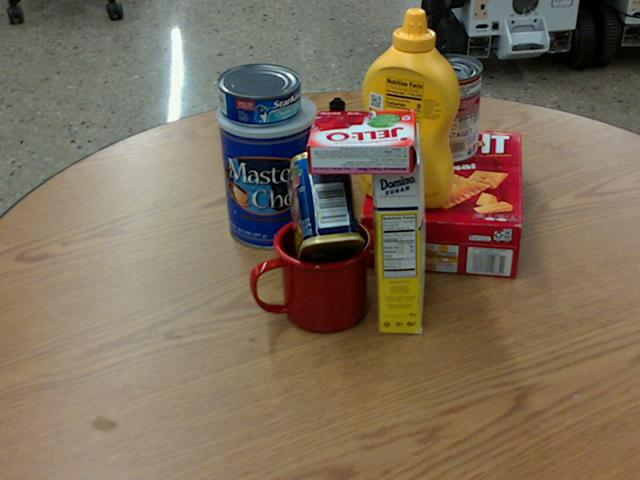cracker_box: (358, 125, 520, 277)
gelatin_box: (305, 108, 418, 174)
large_marker: (328, 99, 345, 198)
master_chef_can: (217, 88, 320, 247)
mug: (246, 214, 369, 333)
mustard_bottle: (359, 8, 459, 207)
potted_meat_can: (286, 150, 364, 269)
sugar_box: (371, 121, 422, 334)
tomato_soup_can: (417, 53, 481, 163)
tuna_fish_can: (216, 62, 300, 124)
